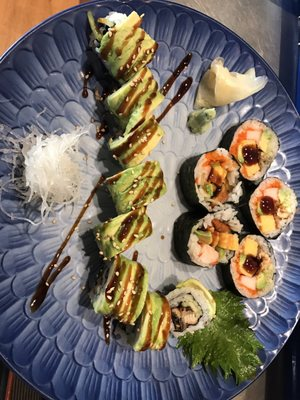curry: (176, 289, 266, 387)
